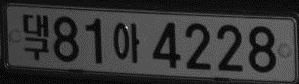1: (82, 17, 108, 64)
2: (216, 23, 243, 72), (184, 21, 211, 69)
4: (152, 22, 180, 68)
8: (248, 25, 276, 72), (52, 15, 79, 62)
대구_V: (21, 13, 49, 60)
아: (112, 21, 139, 63)
